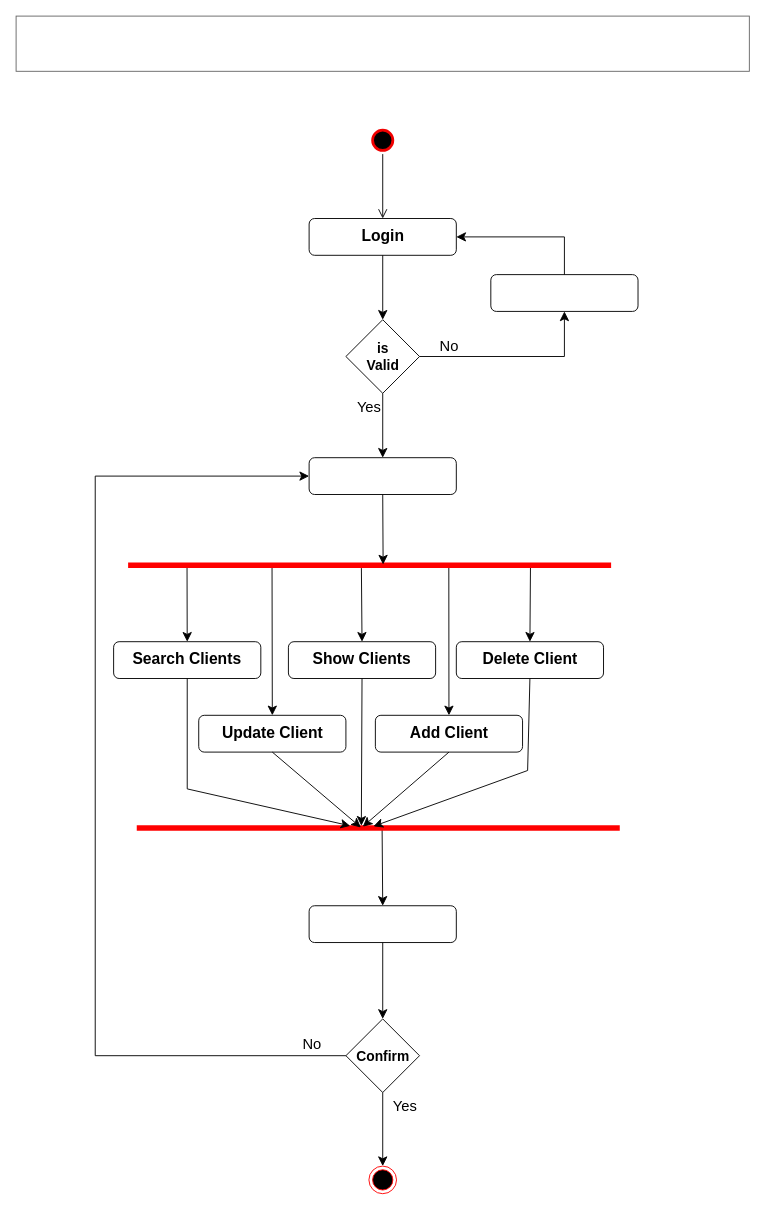
Some shapes in this 765 by 1210 pixel diagram are drawn without their labels. The centre of each missing label's shape, as x and y in pixels:
Activity Diagram For Admin Side: (382,43)
Admin Deskbord: (382,475)
alert : Login Failed: (564,292)
Logout: (382,924)
